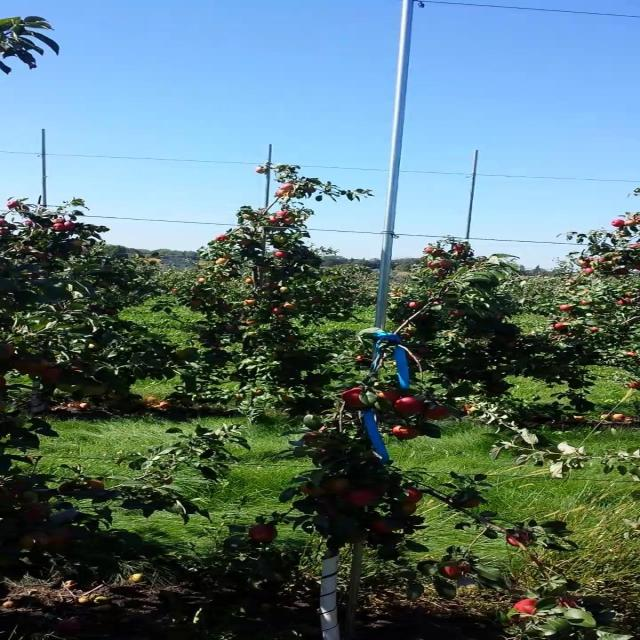apple: (340, 388, 368, 408), (13, 360, 50, 375), (397, 400, 427, 416), (248, 528, 277, 542), (348, 492, 377, 505), (390, 428, 420, 440), (518, 600, 540, 616), (49, 528, 71, 544), (404, 488, 425, 504), (42, 368, 64, 383), (426, 408, 453, 420), (376, 392, 405, 403), (84, 384, 108, 396), (28, 508, 50, 521), (49, 532, 71, 545), (319, 504, 340, 517), (447, 568, 469, 580), (326, 480, 348, 492), (511, 536, 533, 548), (305, 484, 325, 496), (561, 596, 581, 608), (376, 520, 393, 534), (84, 480, 107, 490), (20, 536, 37, 549), (56, 384, 80, 393), (6, 484, 28, 493), (305, 432, 320, 445), (404, 504, 420, 516), (35, 536, 55, 545), (461, 404, 475, 415), (6, 344, 16, 357), (468, 500, 484, 508), (6, 492, 20, 500), (63, 484, 75, 492)
